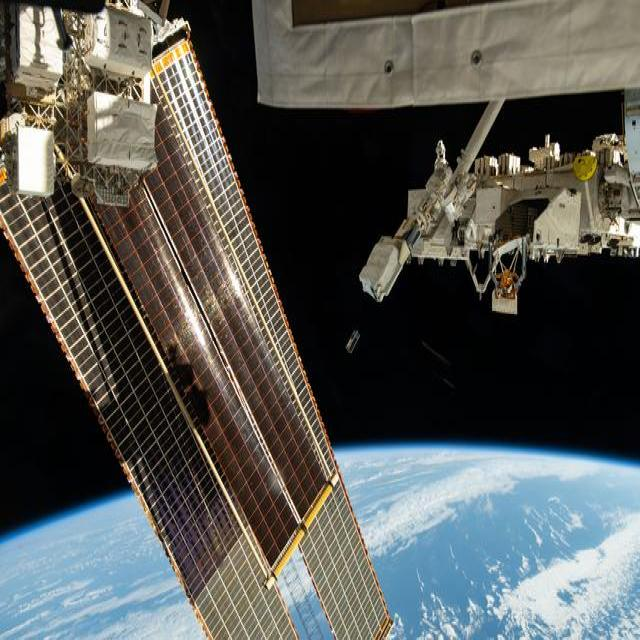medium_debris: (0, 0, 390, 638), (254, 0, 640, 313), (345, 329, 360, 354)
